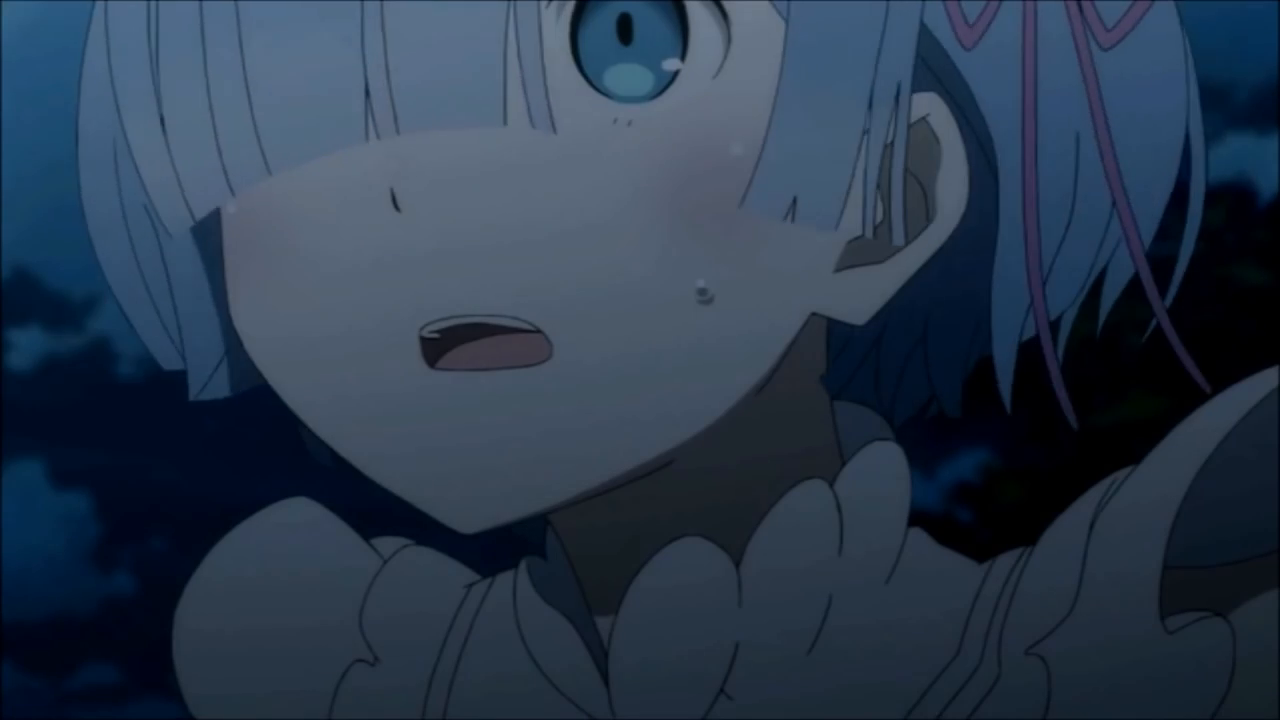REM: (73, 1, 1181, 557)
